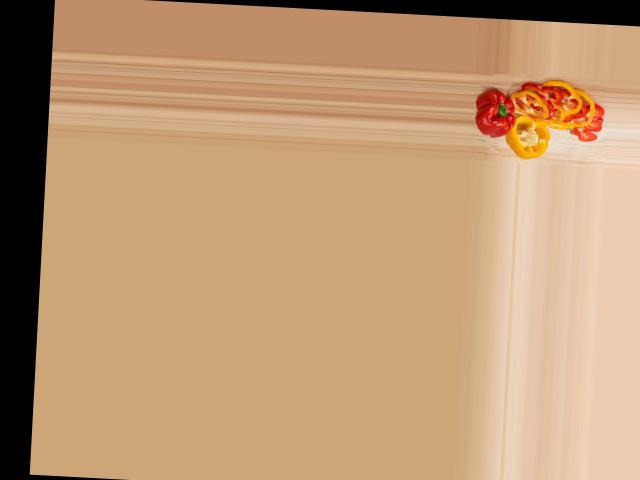bell_pepper: (506, 115, 553, 162)
